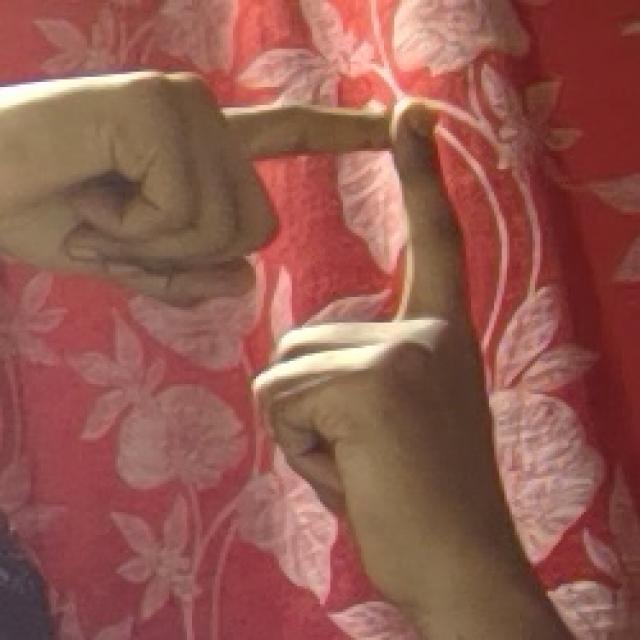Alphabet-E: (26, 64, 519, 605)
